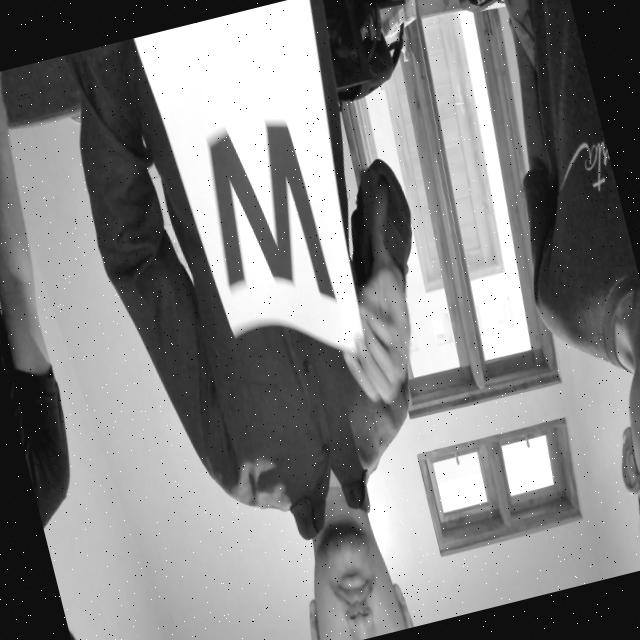w: (168, 80, 360, 340)
